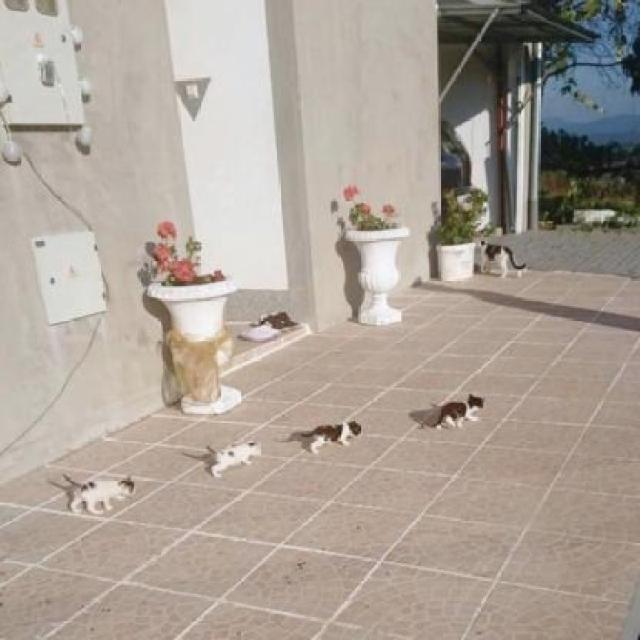cat: (49, 461, 145, 521), (283, 403, 379, 460), (421, 381, 494, 442), (194, 429, 268, 482), (474, 233, 534, 279)
